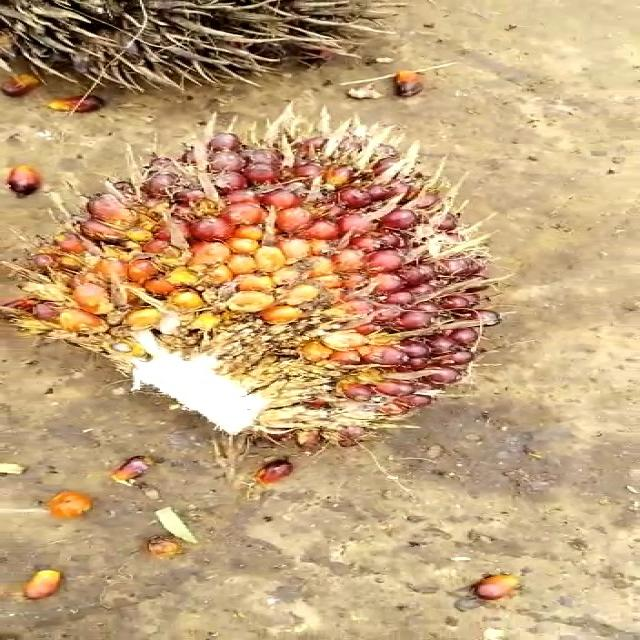palm oil: (4, 119, 514, 448)
